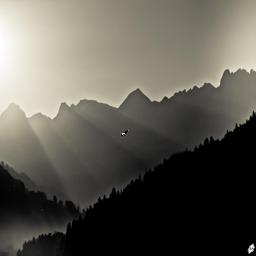Woodpecker: (120, 130, 129, 138)
